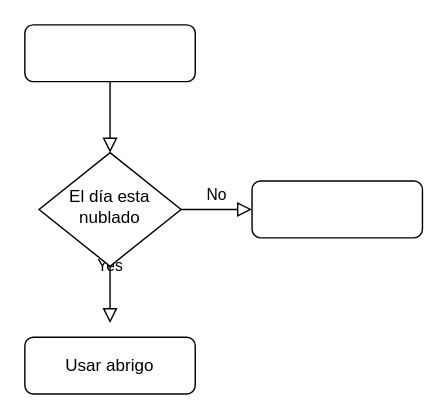
Some shapes in this 447 by 419 pixel diagram are drawn without their labels. The shapes that lost their labels are listed below. From the top down, each one's box as (x1, y1, x2, y2) in pixels, then its label:
(23, 23, 195, 82): Inicio
(251, 180, 422, 238): Usar ropa fresca
